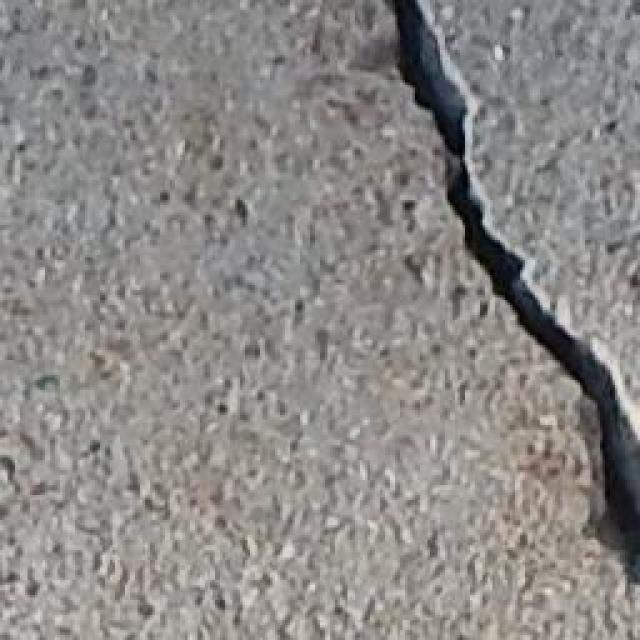concrete-crack: (383, 0, 640, 591)
